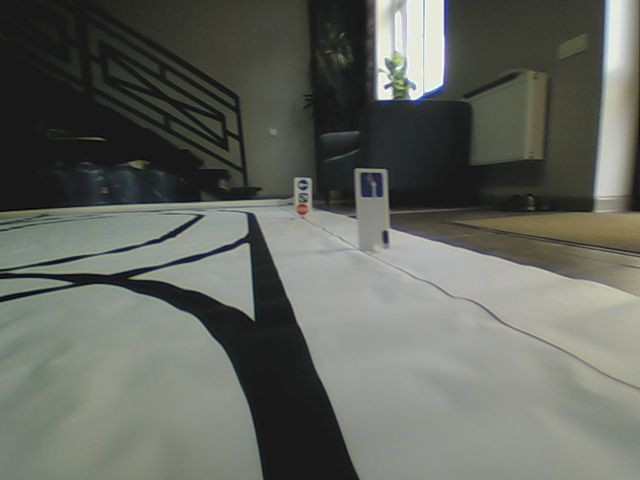priority_movement: (358, 171, 384, 199)
